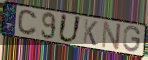9: (41, 11, 57, 41)
C: (17, 9, 39, 37)
G: (122, 25, 142, 53)
K: (82, 18, 99, 48)
N: (100, 20, 123, 52)
U: (57, 13, 83, 44)
